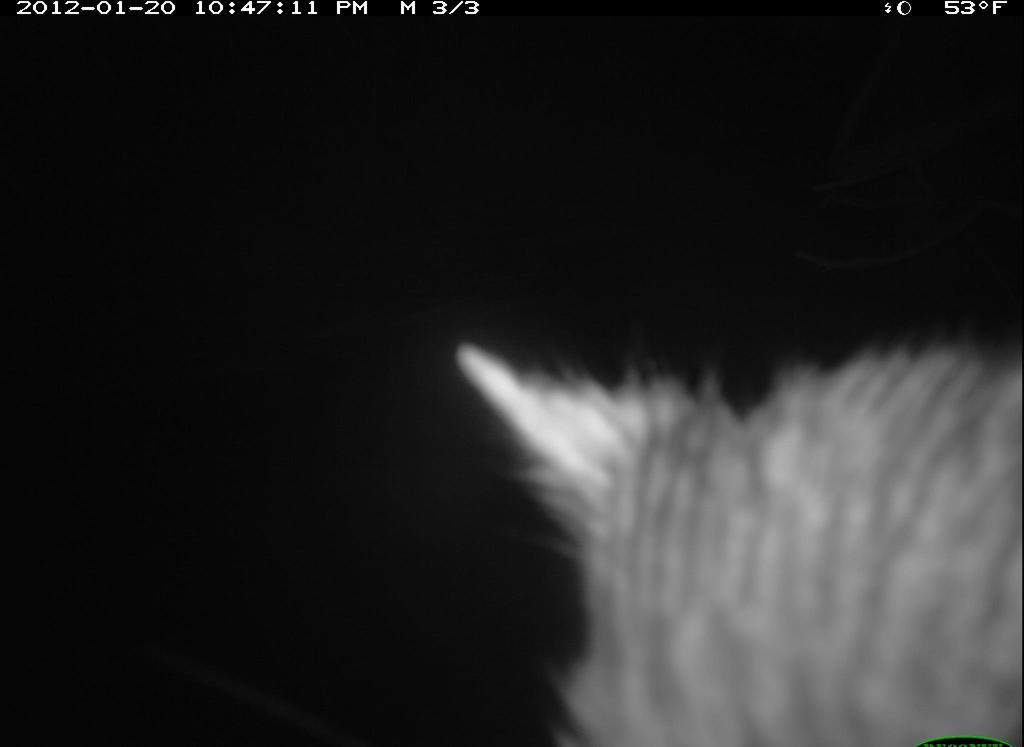raccoon: (428, 326, 1021, 747)
